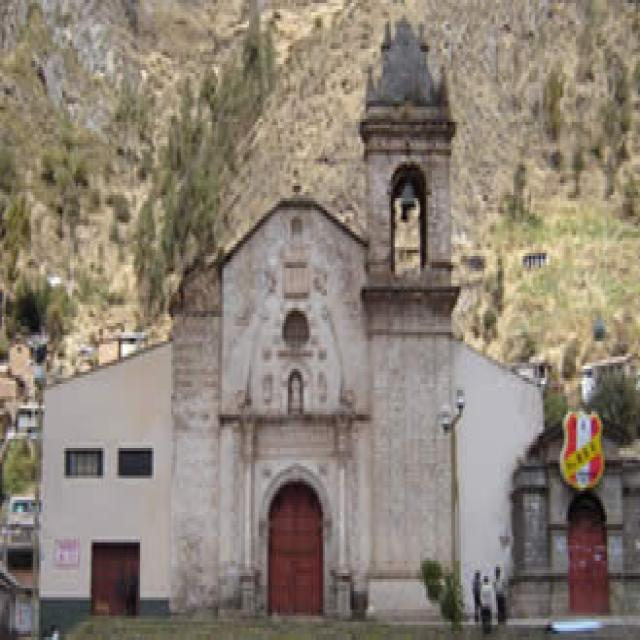6: (355, 29, 502, 636)
CAMPANARIO: (360, 106, 458, 308)
CUPULA: (0, 0, 570, 629)
PORTADA CENTRAL: (360, 26, 451, 88)
SIMETRIA COLONIAL: (221, 404, 356, 628)
